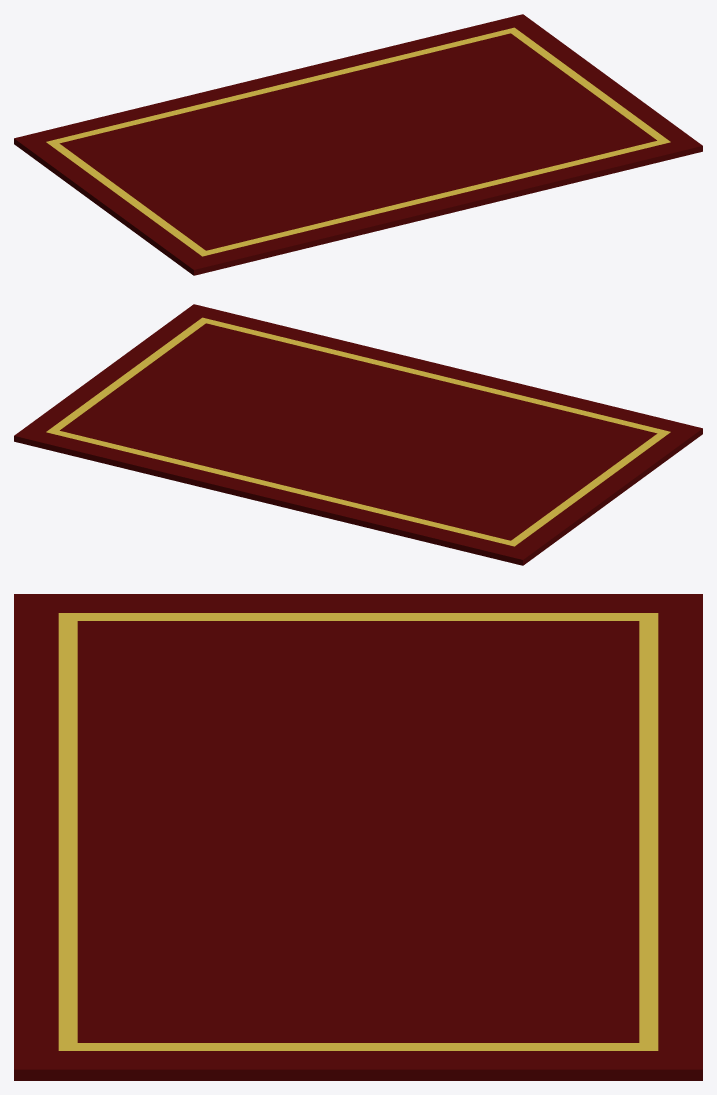
The model's file is Prop_Carpet_05.fbx.
3 views of the same model, one above another, from view 1: azimuth 30°, elevation 25°; view 2: azimuth 150°, elevation 25°; view 3: azimuth 270°, elevation 25° (orthographic). The views are drawn at different scales.
Visible parts, largest first — view 1: Prop_Carpet_05; view 2: Prop_Carpet_05; view 3: Prop_Carpet_05.
Boxes of the visible parts, x1=… form: Prop_Carpet_05: x1=14, y1=14, x2=702, y2=275; Prop_Carpet_05: x1=14, y1=304, x2=702, y2=565; Prop_Carpet_05: x1=14, y1=594, x2=702, y2=1080.
Size of the model in its own units: 175 by 1.92 by 107.
